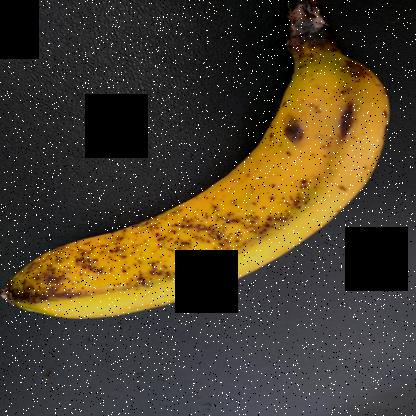ripe: (8, 57, 379, 346)
